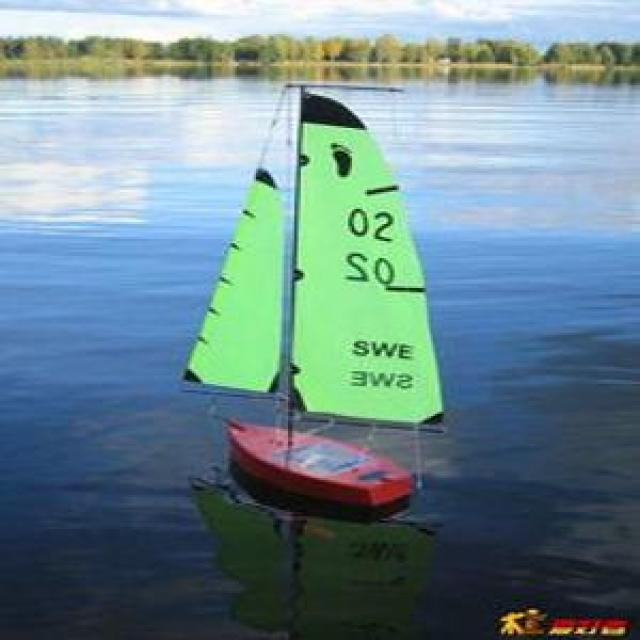sailboat: (164, 78, 438, 508)
